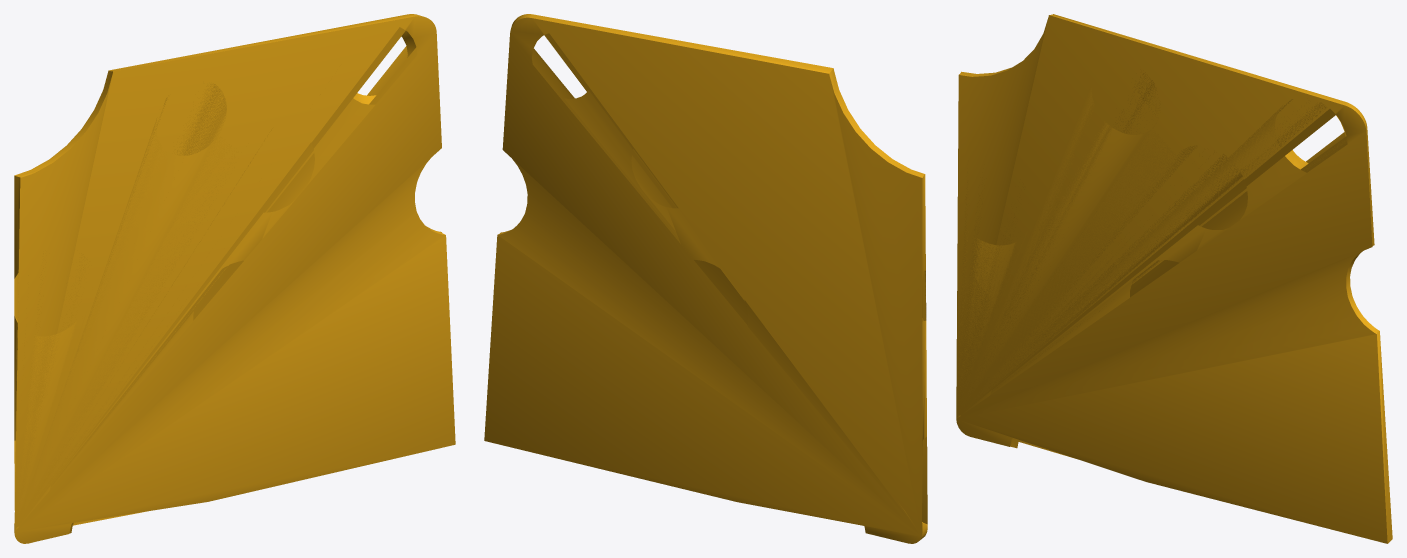
File: cheese.fbx
The picture shows the model from 3 angles, left to right: view 1: azimuth 30°, elevation 25°; view 2: azimuth 150°, elevation 25°; view 3: azimuth 330°, elevation 25°; orthographic projection. The views are drawn at different scales.
Parts seen in each view (by area): view 1: Plane.002; view 2: Plane.002; view 3: Plane.002.
Part boxes in pixels (x1,y1,x2,y2): Plane.002: (14,14,455,543); Plane.002: (484,14,927,543); Plane.002: (956,14,1392,543).
Bounding box in the file's own units: 23.86 × 23.61 × 0.512.
